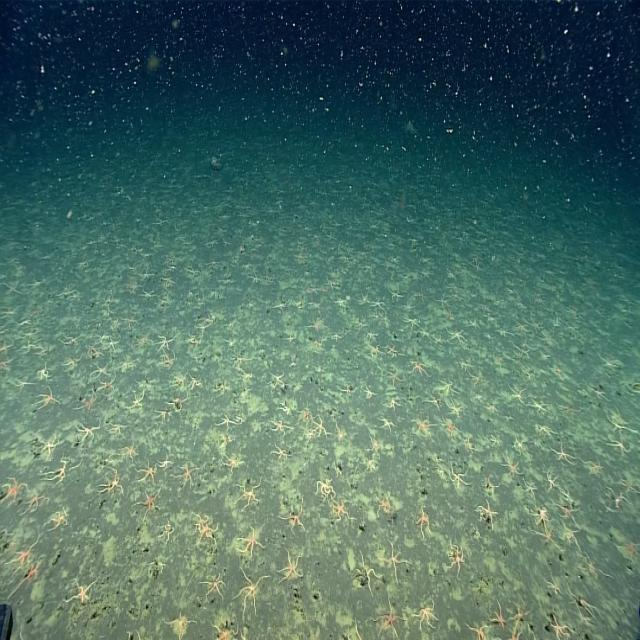brittle-stars: (231, 568, 270, 618), (6, 559, 42, 600), (377, 542, 407, 583), (4, 535, 40, 569), (372, 599, 404, 637), (356, 551, 380, 597), (277, 501, 308, 534), (63, 578, 100, 604), (133, 488, 163, 518), (234, 482, 262, 513), (274, 554, 305, 582), (197, 574, 226, 602), (238, 526, 264, 557), (165, 615, 198, 639), (0, 473, 26, 502), (606, 412, 637, 436), (551, 500, 579, 526), (171, 465, 200, 490), (411, 509, 433, 540), (98, 469, 124, 495), (414, 603, 437, 632), (23, 491, 49, 516), (447, 541, 464, 578), (605, 482, 629, 508), (39, 432, 61, 460), (608, 431, 630, 459), (40, 461, 66, 484), (46, 508, 69, 534), (617, 470, 640, 496), (476, 500, 498, 527), (314, 478, 338, 502), (331, 498, 355, 522), (195, 522, 219, 546), (76, 421, 101, 444), (450, 464, 472, 490), (559, 522, 581, 548), (34, 388, 61, 409), (549, 444, 576, 465), (534, 506, 551, 538), (509, 604, 533, 626), (409, 417, 436, 436), (578, 596, 600, 619), (72, 392, 97, 412), (214, 414, 242, 431), (209, 624, 238, 640), (137, 461, 157, 484), (620, 543, 640, 566), (547, 616, 567, 638), (95, 374, 117, 394), (467, 621, 490, 640), (586, 383, 610, 401), (221, 452, 240, 474), (489, 603, 506, 627), (166, 391, 187, 410), (195, 315, 214, 336), (502, 459, 524, 477), (507, 385, 527, 404), (59, 330, 84, 345), (408, 360, 430, 377), (544, 574, 561, 596), (374, 494, 391, 516), (534, 422, 556, 439), (444, 398, 464, 416), (310, 417, 327, 438), (446, 327, 467, 344), (269, 444, 291, 460), (269, 419, 291, 435), (481, 476, 500, 494), (120, 443, 140, 460), (63, 354, 83, 371), (439, 416, 457, 434), (530, 397, 549, 414), (160, 519, 174, 542), (192, 512, 208, 532), (512, 436, 528, 456), (100, 336, 120, 352), (127, 390, 144, 408), (511, 342, 530, 358), (347, 620, 362, 640), (438, 381, 458, 396), (546, 472, 560, 493), (306, 320, 327, 334), (91, 363, 108, 380), (556, 405, 582, 416), (12, 377, 34, 390), (154, 337, 174, 351), (18, 342, 38, 356), (270, 371, 286, 387), (385, 369, 402, 384), (236, 367, 253, 382), (368, 434, 379, 457), (523, 480, 537, 498), (378, 418, 396, 432), (339, 382, 357, 396), (122, 316, 140, 330), (386, 344, 403, 358), (154, 408, 172, 421), (587, 461, 603, 475), (109, 422, 126, 435), (368, 297, 385, 310), (424, 397, 442, 409), (464, 437, 476, 455), (512, 619, 522, 640), (0, 356, 14, 371), (335, 423, 345, 444), (231, 356, 249, 367), (188, 376, 202, 390), (362, 386, 377, 399), (387, 397, 400, 412), (401, 316, 418, 327), (156, 457, 173, 468), (162, 353, 176, 366), (325, 276, 338, 290), (388, 289, 404, 300), (124, 629, 140, 640), (278, 401, 291, 414), (468, 372, 482, 384), (0, 341, 12, 355), (215, 382, 230, 393), (273, 301, 286, 313), (368, 344, 382, 355), (39, 366, 49, 381), (335, 296, 347, 308), (488, 434, 499, 447), (85, 346, 98, 357), (514, 322, 528, 332), (305, 286, 320, 295), (414, 292, 427, 302), (188, 337, 202, 346), (465, 320, 479, 328), (301, 410, 311, 421), (446, 309, 454, 320)
